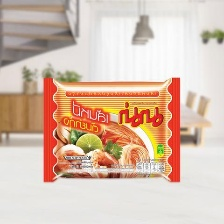snack: (35, 70, 188, 189)
